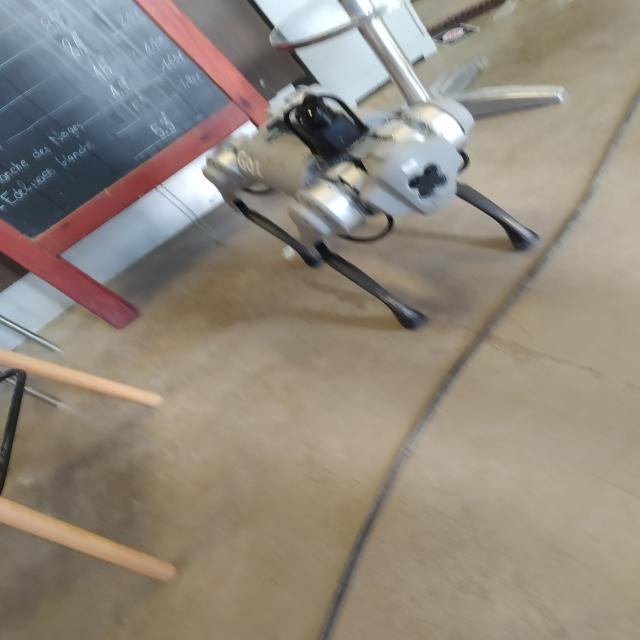unitree-go1-robot: (185, 59, 550, 338)
